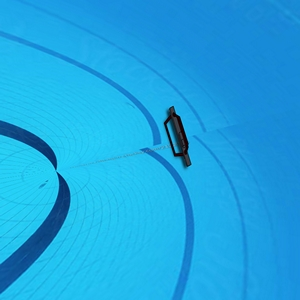submarine: (166, 106, 195, 166)
